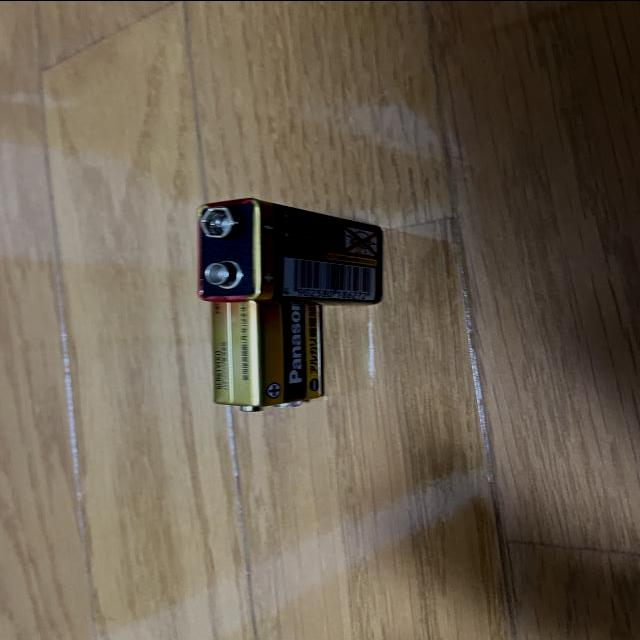9V: (193, 194, 383, 302), (210, 287, 323, 412)
